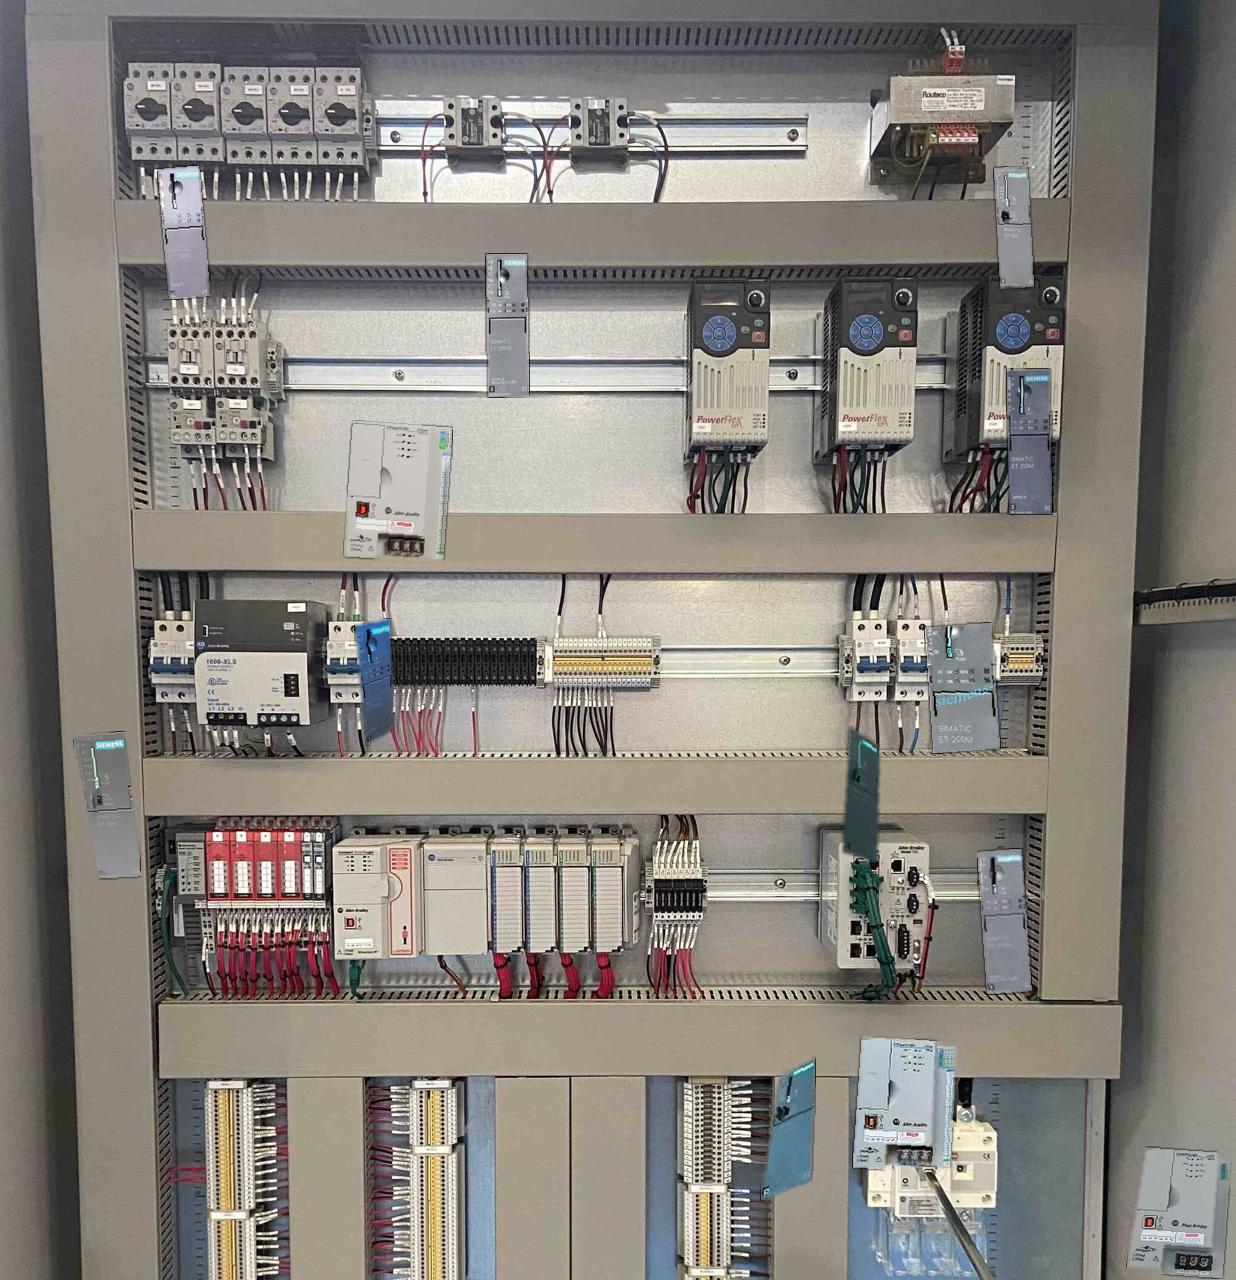AllenBradley: (345, 422, 452, 559), (853, 1038, 955, 1169), (1127, 1147, 1229, 1277)
Siemens: (73, 731, 141, 877), (761, 1058, 814, 1199), (843, 727, 878, 862), (994, 167, 1033, 287)
